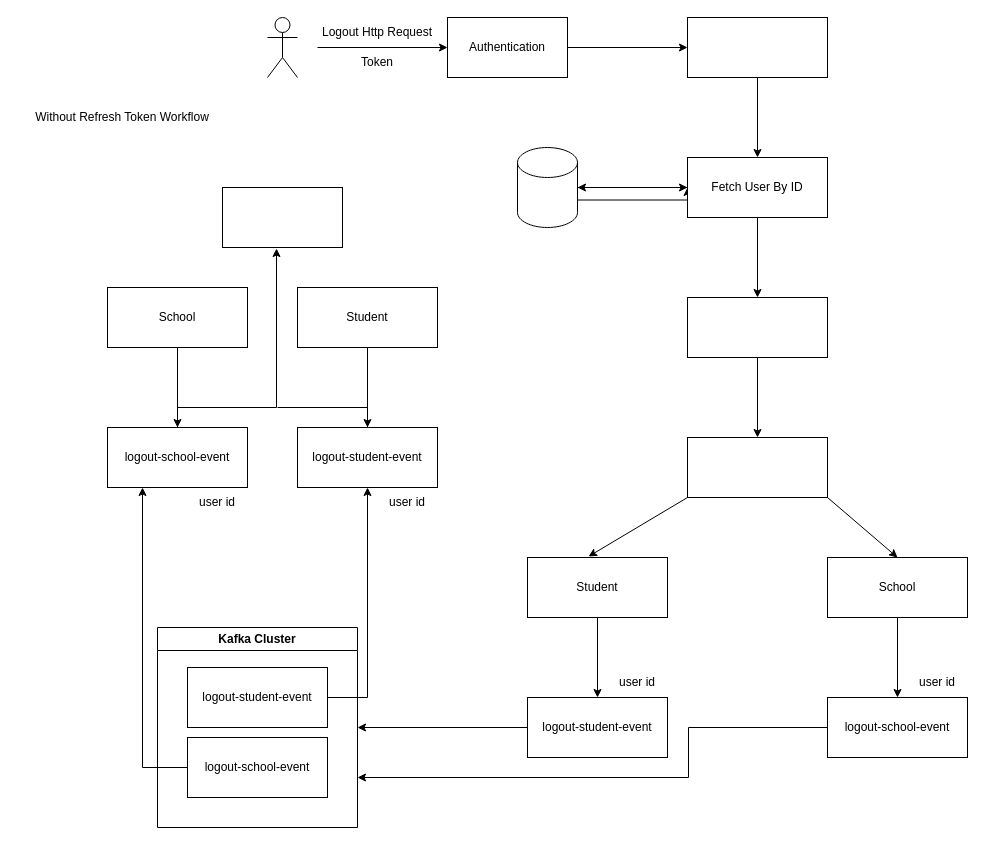
Image size: 985x845. Some labels were removed from this diagram. The centre of each missing label's shape, as x and y in pixels:
"Actor" belongs at (282,47).
"Get Roles" belongs at (757,327).
"Get Services" belongs at (757,467).
"Get User Id By Token" belongs at (757,47).
"set logged out = true" belongs at (282,217).
